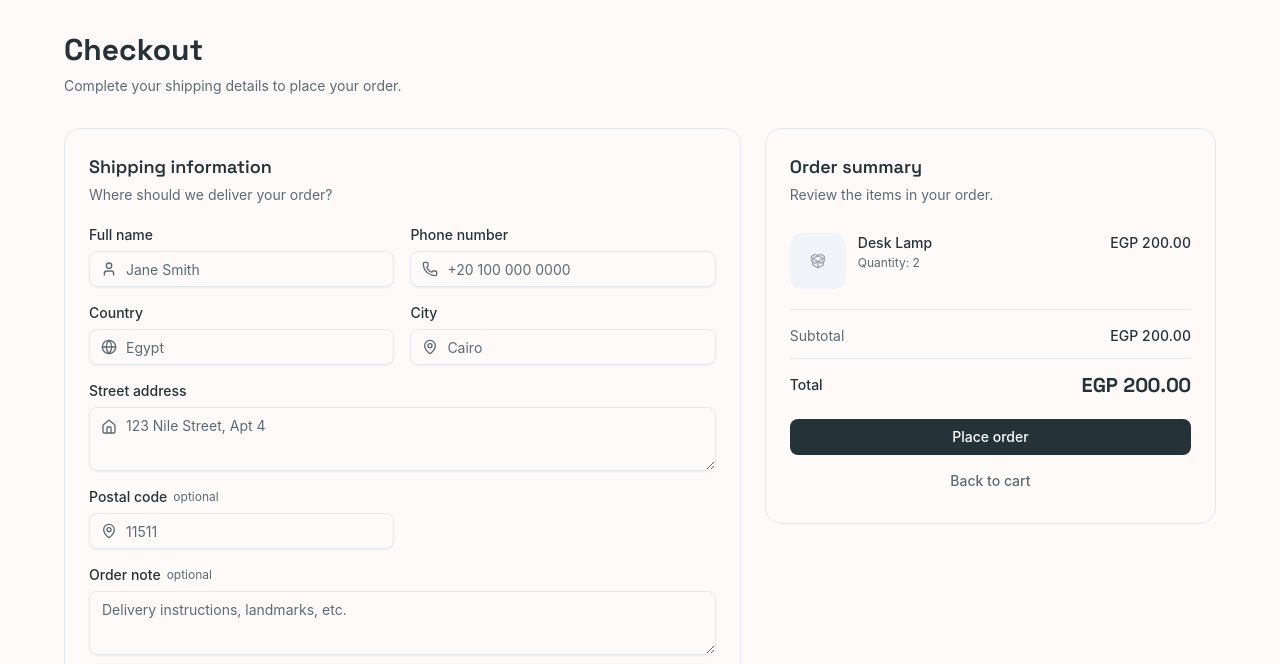
Test: Checkout › blocks submission and surfaces field errors when the form is empty
Click the button "Place order": click(990, 437) [790, 419, 1191, 455]
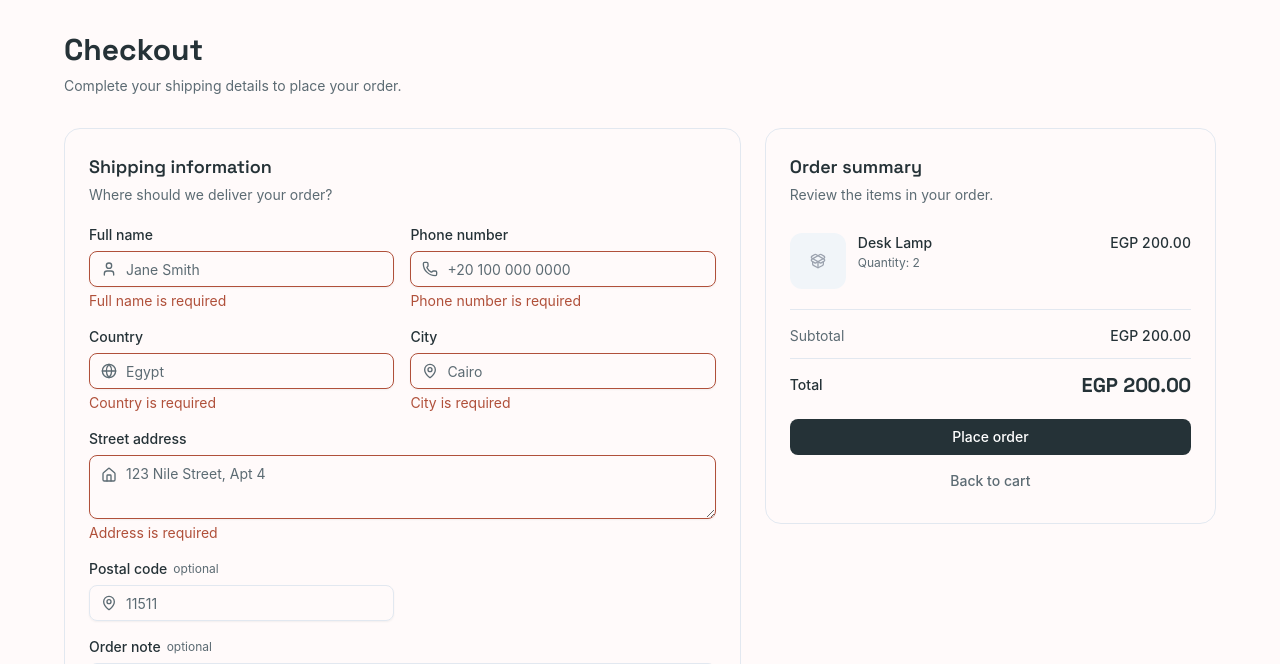
Now the text "Full name is required" is shown, box [89, 292, 226, 309]
Now the text "Phone number is required" is shown, box [410, 292, 581, 309]
